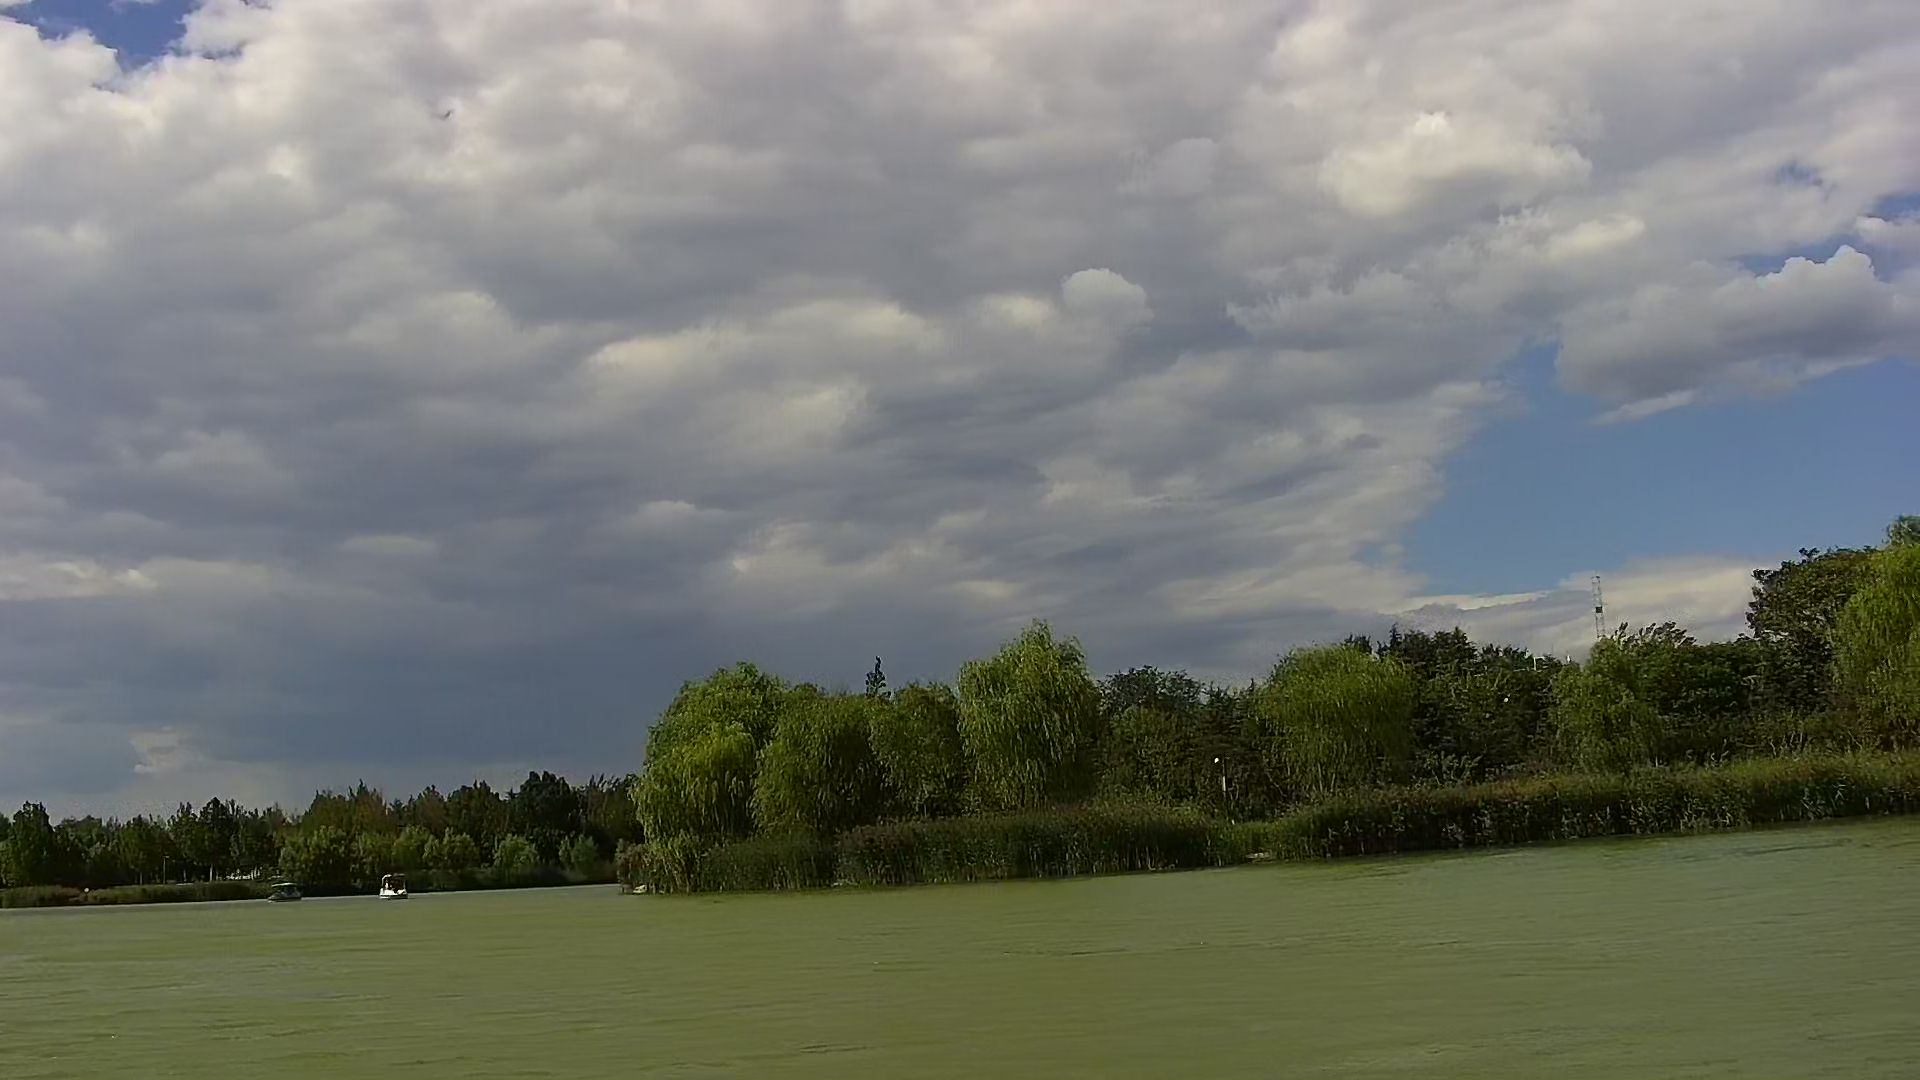boat: (377, 868, 410, 901), (268, 880, 305, 905)
